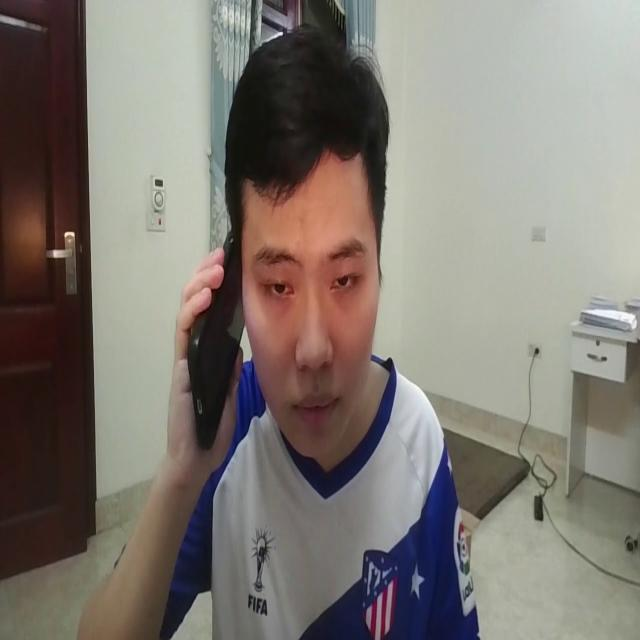phone: (168, 194, 260, 471)
student: (77, 26, 482, 640)
